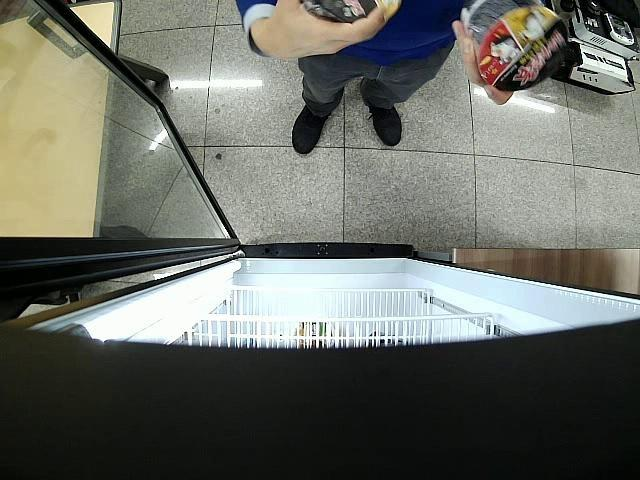07_buldak_L: (462, 0, 570, 91), (300, 0, 388, 22)
